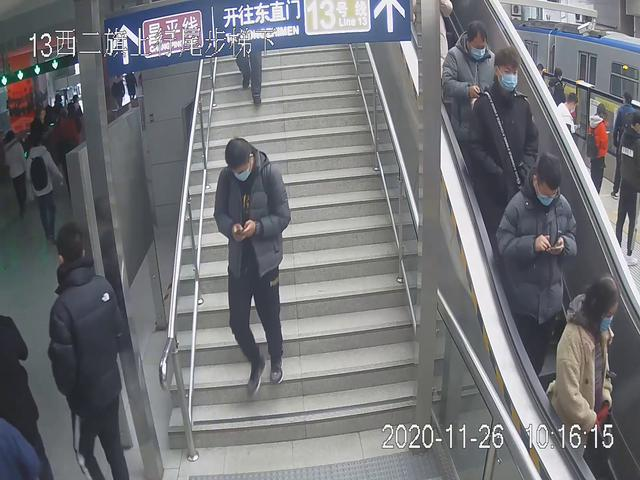person: (212, 134, 293, 399), (45, 222, 128, 480), (493, 148, 579, 378), (468, 42, 538, 252), (552, 274, 621, 480)
